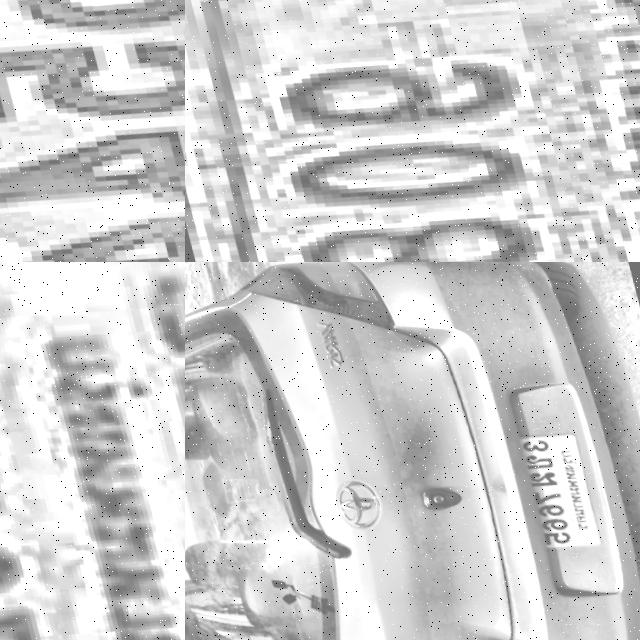license-plate: (185, 0, 640, 262), (0, 262, 185, 640), (0, 0, 185, 262), (505, 413, 598, 547)
